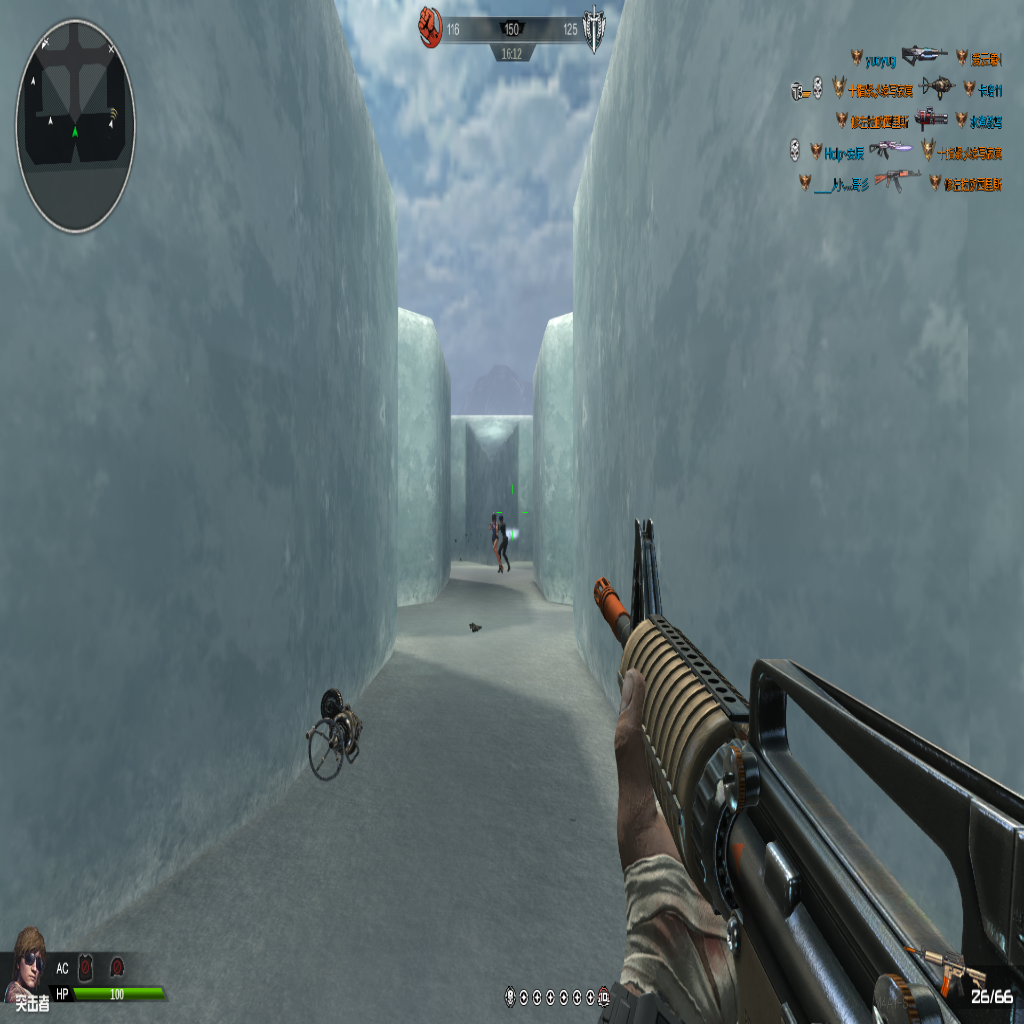ct: (496, 512, 510, 574)
